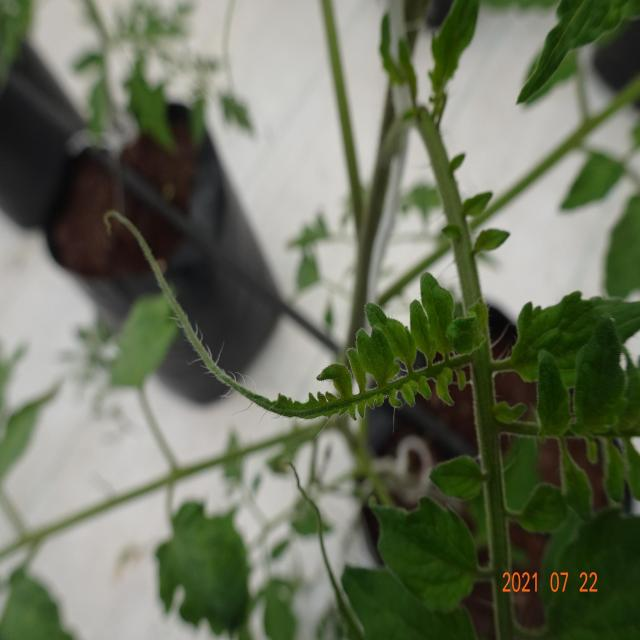T_L_R: (375, 499, 479, 611), (421, 274, 455, 359)
T_S_R: (430, 134, 509, 578)
